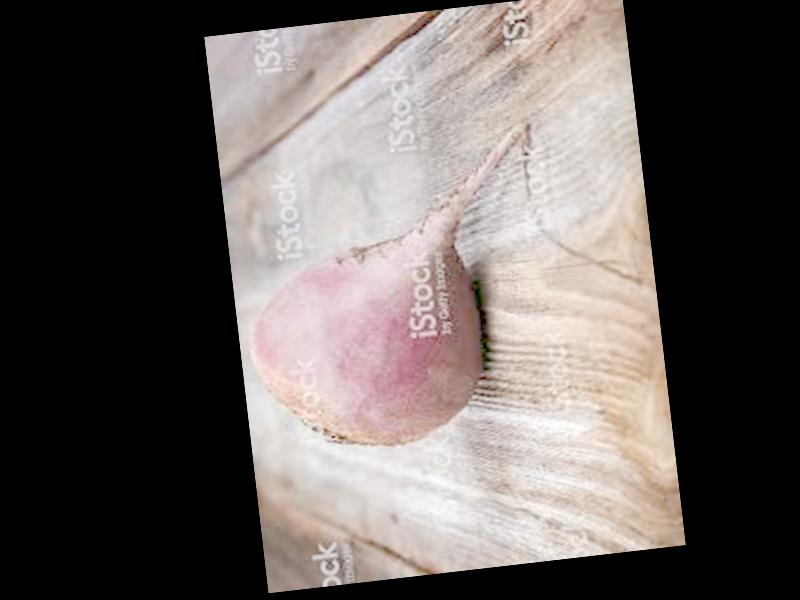Beet: (227, 120, 561, 460)
